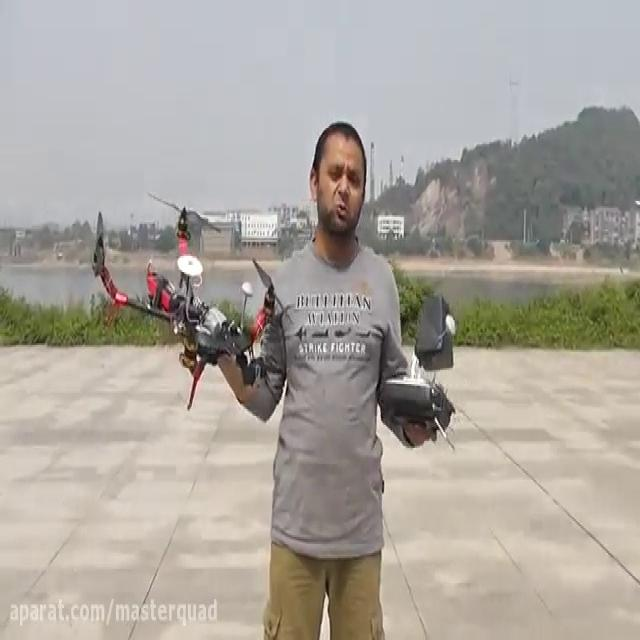drone: (90, 188, 294, 414)
